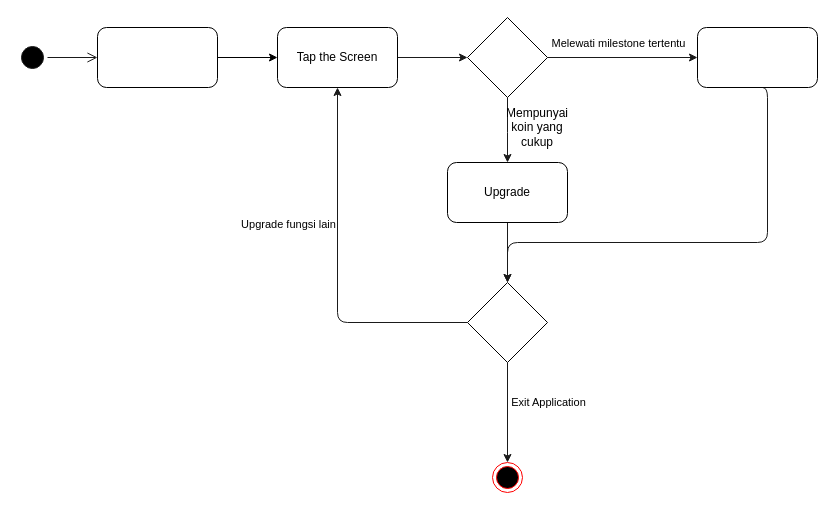
The diagram is 835 pixels wide and 510 high, and some of its shapes have lost their labels. The shapes that lost their labels are listed below. From the top down, each one's centre as x and y in pixels, then its label:
At [157,57]: "Load Save".
At [757,57]: "Get Achievement".
